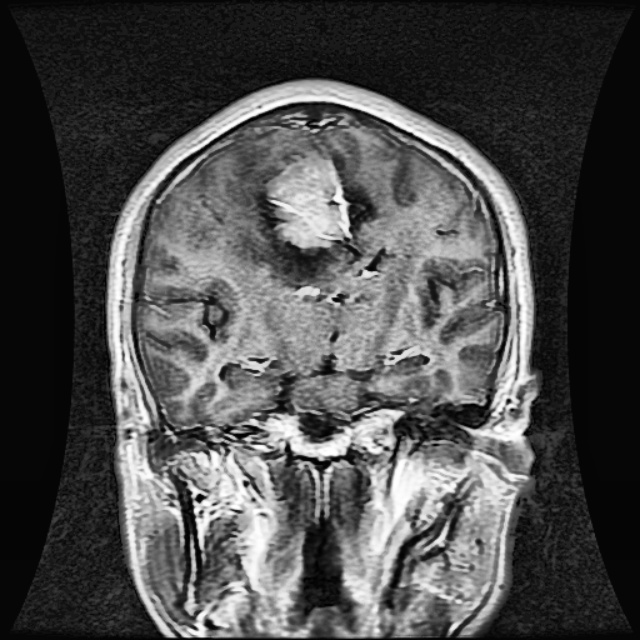Glioma: (269, 157, 348, 248)
